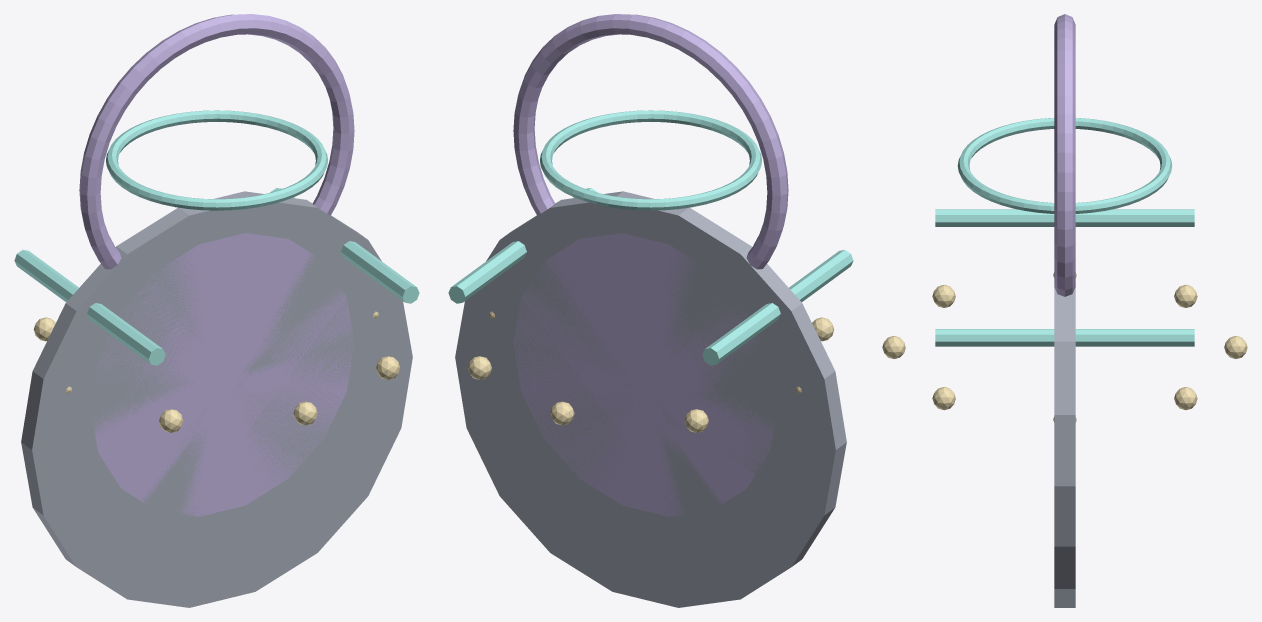
File: hero_aurora_altar.glb
3 views of the same model, side by side, from view 1: azimuth 30°, elevation 25°; view 2: azimuth 150°, elevation 25°; view 3: azimuth 270°, elevation 25° (orthographic). The views are drawn at different scales.
Parts seen in each view (by area): view 1: world; view 2: world; view 3: world.
Boxes of the visible parts, <box> form: world: <box>14,14,419,607</box>; world: <box>448,14,853,607</box>; world: <box>882,14,1247,607</box>.
Size of the model in its own units: 3.6 by 5.22 by 3.1.
